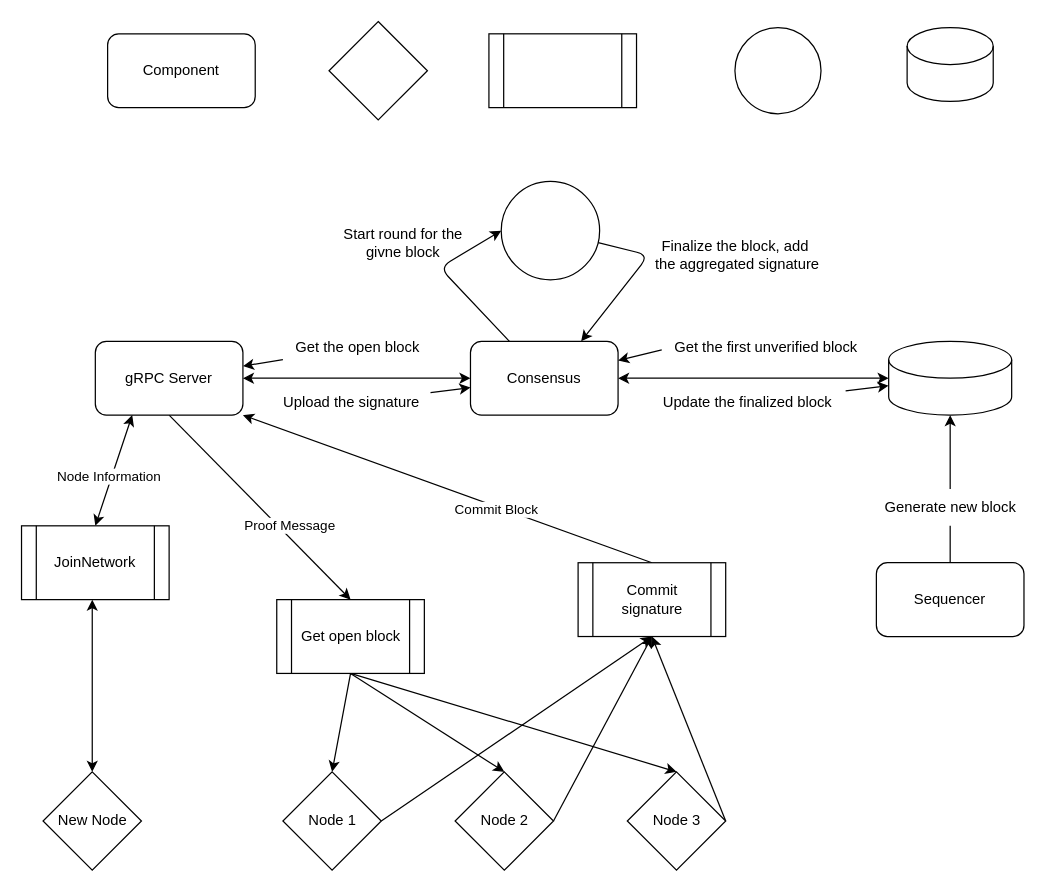
This 1052x892 diagram has some shape labels left out. Each missing label, with the centre of its shape:
"Database" belongs at [949,377].
"DB" belongs at [949,63].
"gRPC Call" belongs at [562,70].
"Node" belongs at [377,70].
"Round State" belongs at [550,230].
"State" belongs at [777,70].
